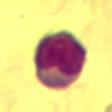monocyte: (31, 24, 90, 90)
